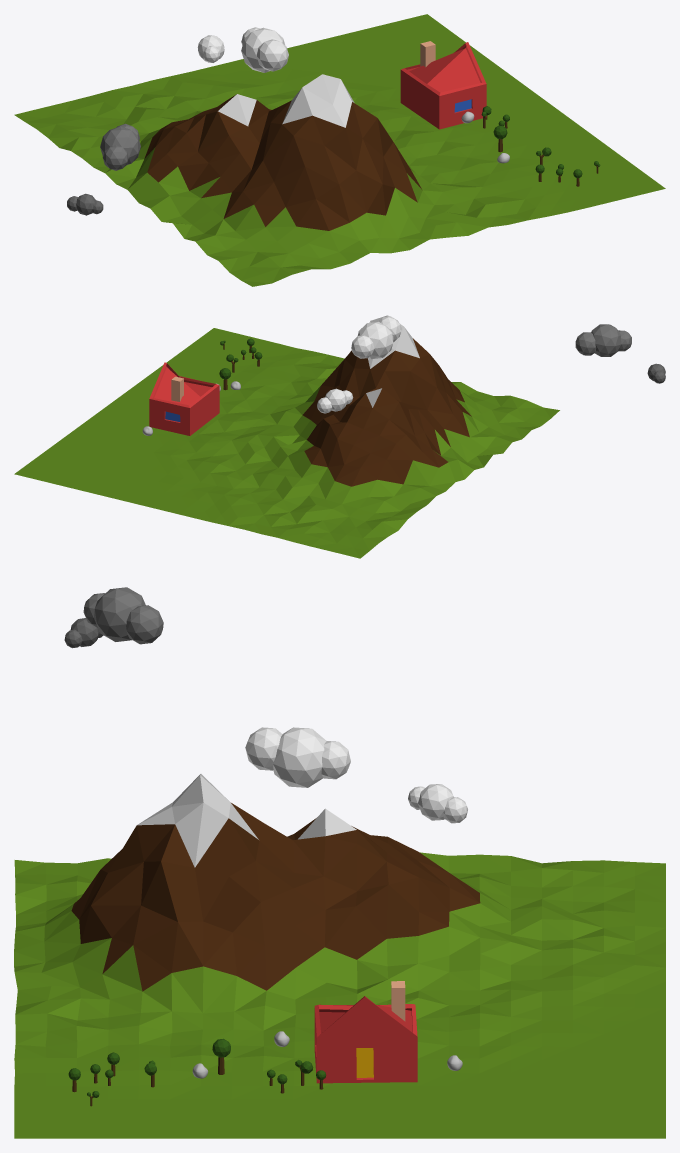
The model's file is Paisajesemestral.glb.
The picture shows the model from 3 angles, top to bottom: view 1: azimuth 30°, elevation 25°; view 2: azimuth 150°, elevation 25°; view 3: azimuth 270°, elevation 25°; orthographic projection. The views are drawn at different scales.
Visible parts, largest first — view 1: Plane.001, Plane.002, Cube, Plane.003, Plane.004, Plane.019, Plane.020; view 2: Plane.001, Plane.002, Cube, Plane.004, Plane.019, Plane.003; view 3: Plane.001, Plane.002, Cube, Plane.004, Plane.003, Plane.019.
Boxes of the visible parts, x1,y1,x2,y2 form: Plane.001: (14,14,665,286); Plane.002: (144,94,421,230); Cube: (400,42,486,129); Plane.003: (218,74,354,127); Plane.004: (197,27,288,72); Plane.019: (100,123,140,170); Plane.020: (67,193,103,215); Plane.001: (14,328,559,558); Plane.002: (302,338,471,486); Cube: (149,362,219,435); Plane.004: (317,316,401,413); Plane.019: (575,324,631,356); Plane.003: (366,315,419,407); Plane.001: (14,852,665,1138); Plane.002: (71,803,480,991); Cube: (314,996,417,1083); Plane.004: (245,727,467,823); Plane.003: (137,774,356,867); Plane.019: (83,587,163,644).
Bounding box in the file's own units: 19.3 × 5.1 × 14.05.
